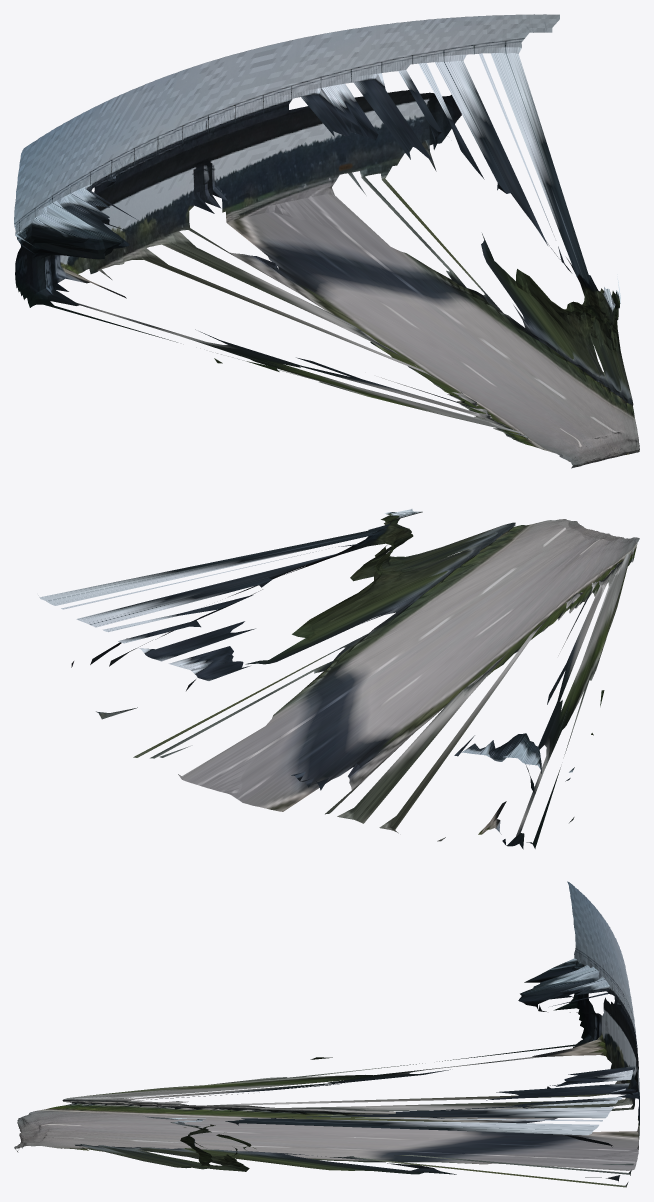
3 renders of one model, top to bottom at view 1: azimuth 30°, elevation 25°; view 2: azimuth 150°, elevation 25°; view 3: azimuth 270°, elevation 25°, orthographic. The views are drawn at different scales.
Parts seen in each view (by area): view 1: defaultobject; view 2: defaultobject; view 3: defaultobject.
Part boxes in pixels (left/top/right/bottom): defaultobject: left=14, top=14, right=639, bottom=468; defaultobject: left=38, top=509, right=639, bottom=849; defaultobject: left=14, top=881, right=639, bottom=1187.
Size of the model in its own units: 39.97 by 12.64 by 44.51.
Materials: 1 (1 with a texture image).
